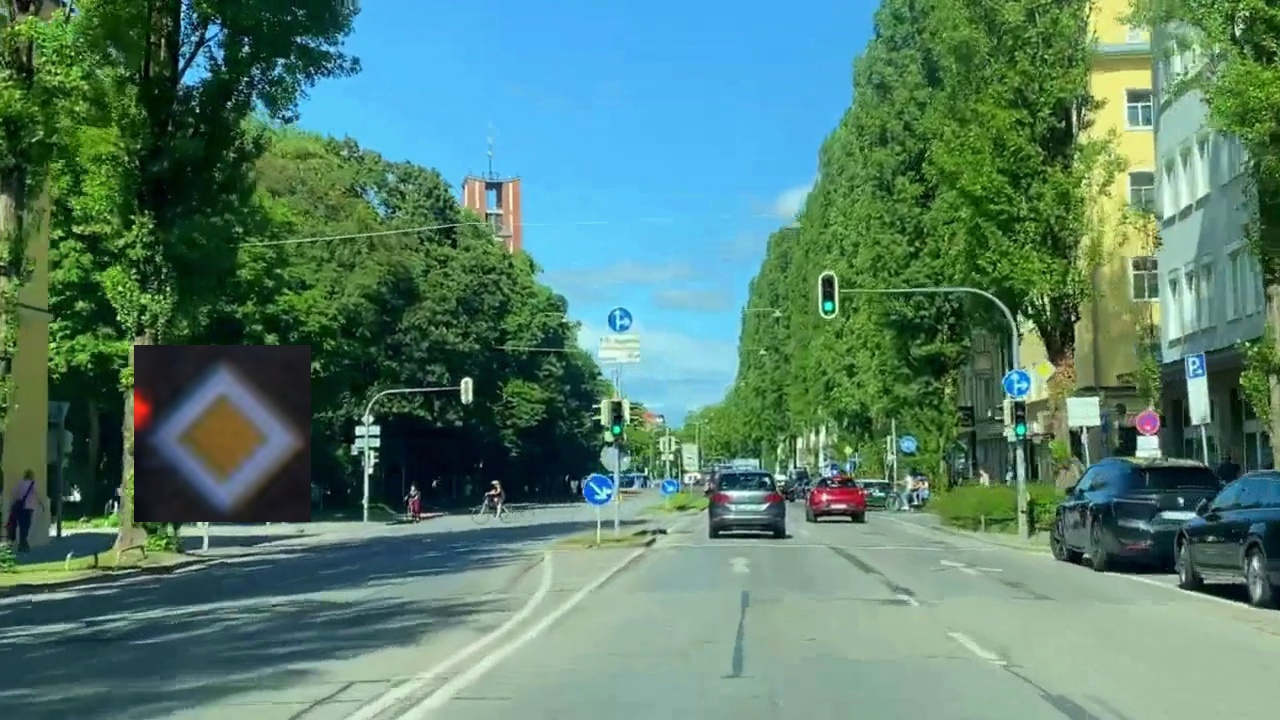Priority road: (134, 345, 311, 522)
